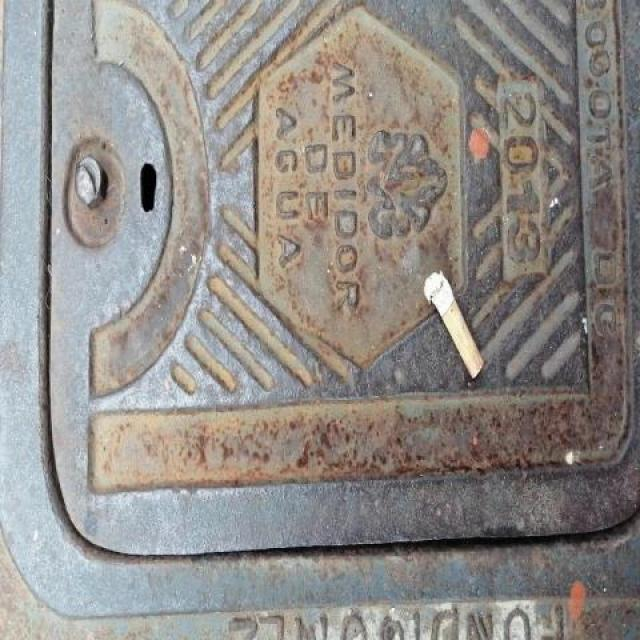non-organic waste: (422, 267, 487, 383)
